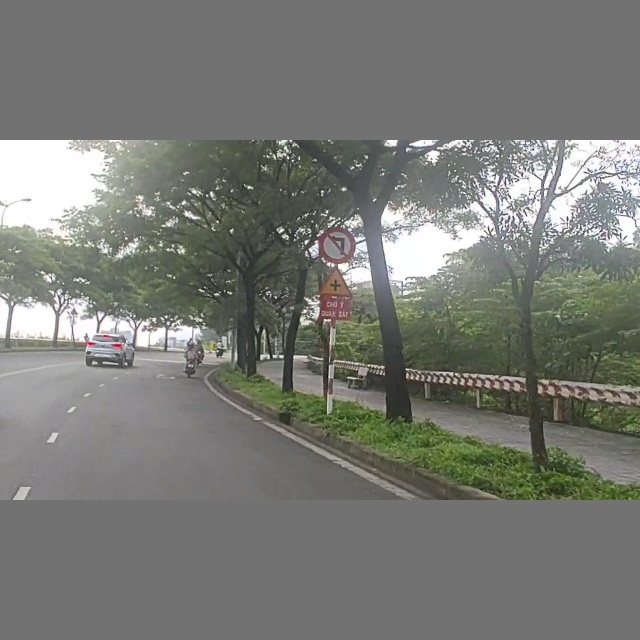P.123a: (313, 223, 358, 265)
W.205a: (317, 265, 357, 297)
